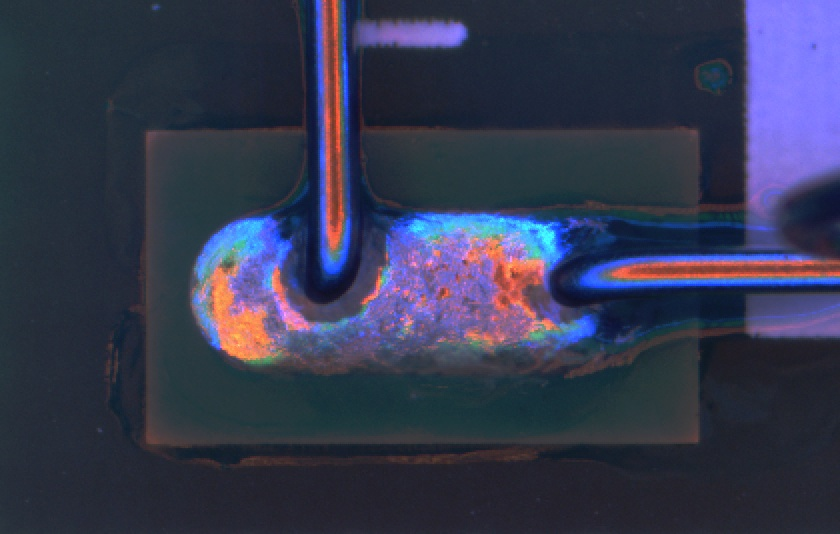spring: (293, 1, 368, 310), (549, 250, 840, 303)
spring_pin: (184, 209, 628, 375)
